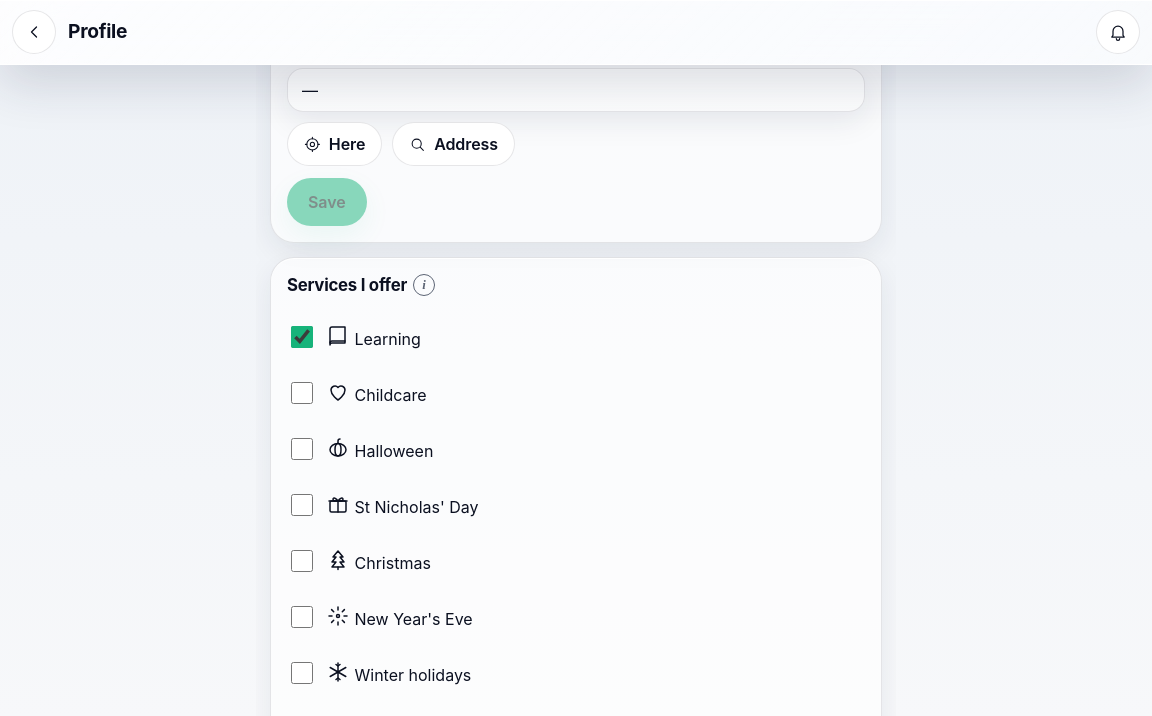
Test: S2 My place and Services I offer (FR-140, FR-093, FR-123, FR-142) › saves My place with a name, and turns offers on and off
The width and height of the screenshot is (1152, 716).
(page scrolled)
Expected: the element with test id "offers" shows "Services I offer", [287,275,407,295]
Expected: the checkbox with test id "offer-learning" is checked, [291,326,313,348]
Click the checkbox with test id "offer-childcare". click: {"x": 302, "y": 393}
box: [291,382,313,404]
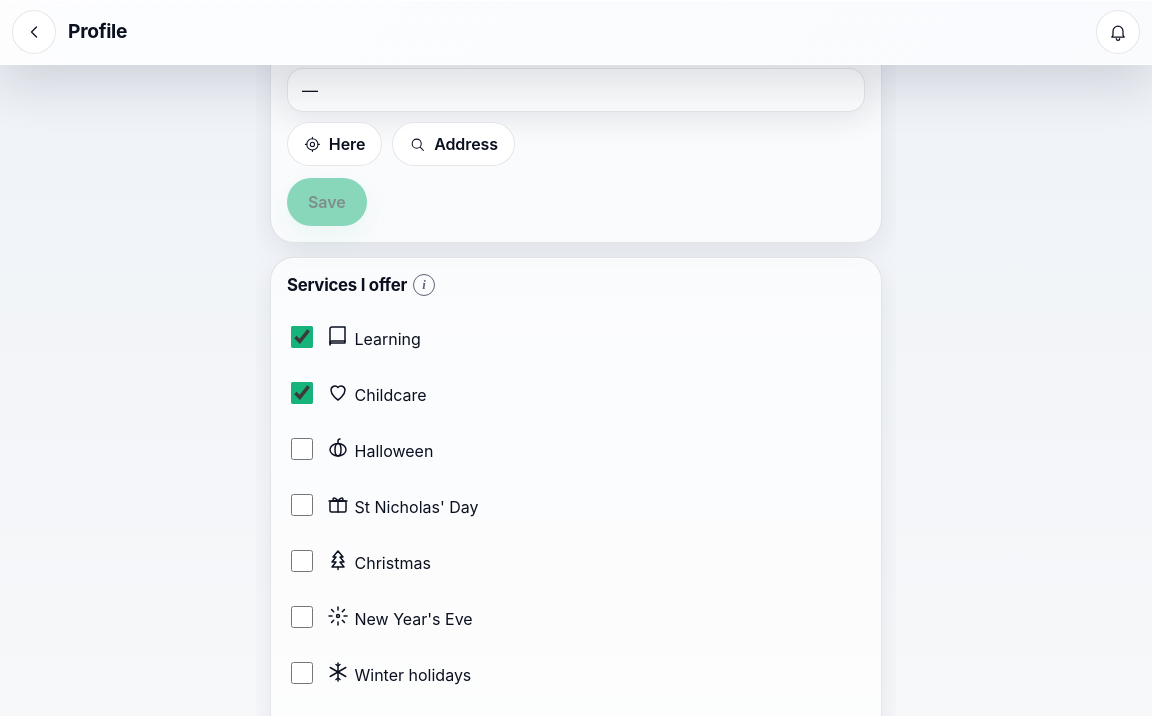
Expected: the text with test id "my-place-input-value" reads "—", [302,80,318,100]
Now the checkbox with test id "offer-childcare" is checked, box [291,382,313,404]
Click the button with test id "my-place-input-here". click: {"x": 335, "y": 144}
box: [287,122,382,166]
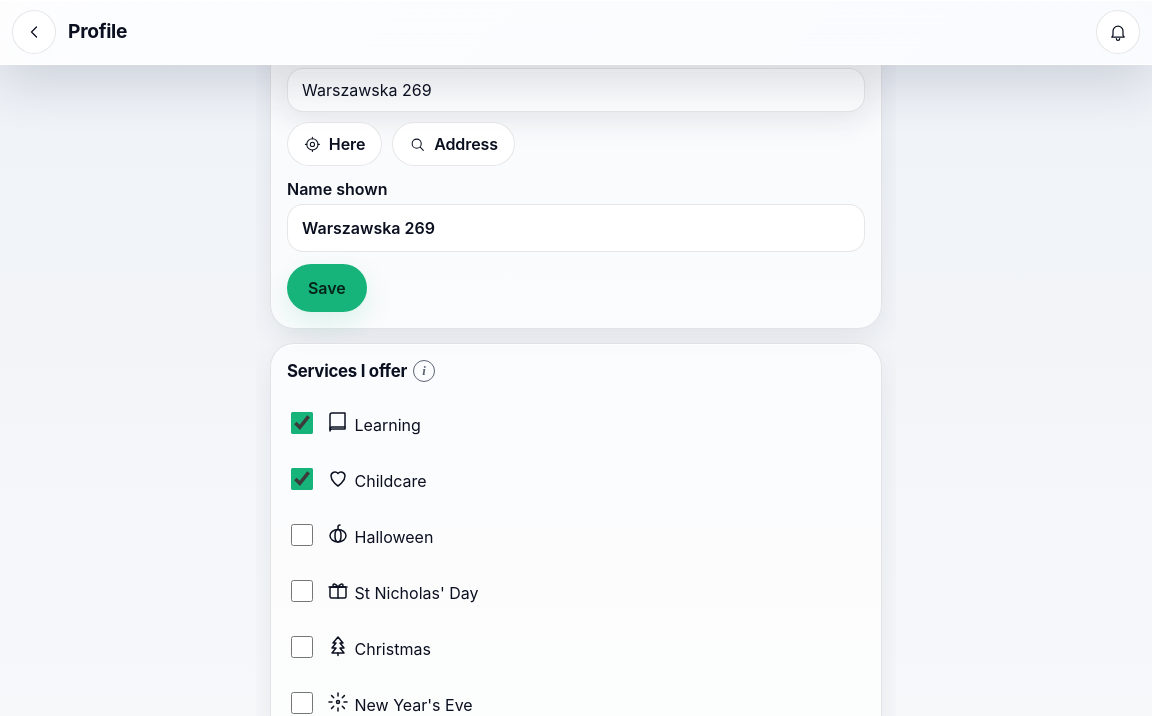
Replace the text in the field with test id "my-place-name" with "Home". click: {"x": 576, "y": 228}
box: [287,204,865,252]
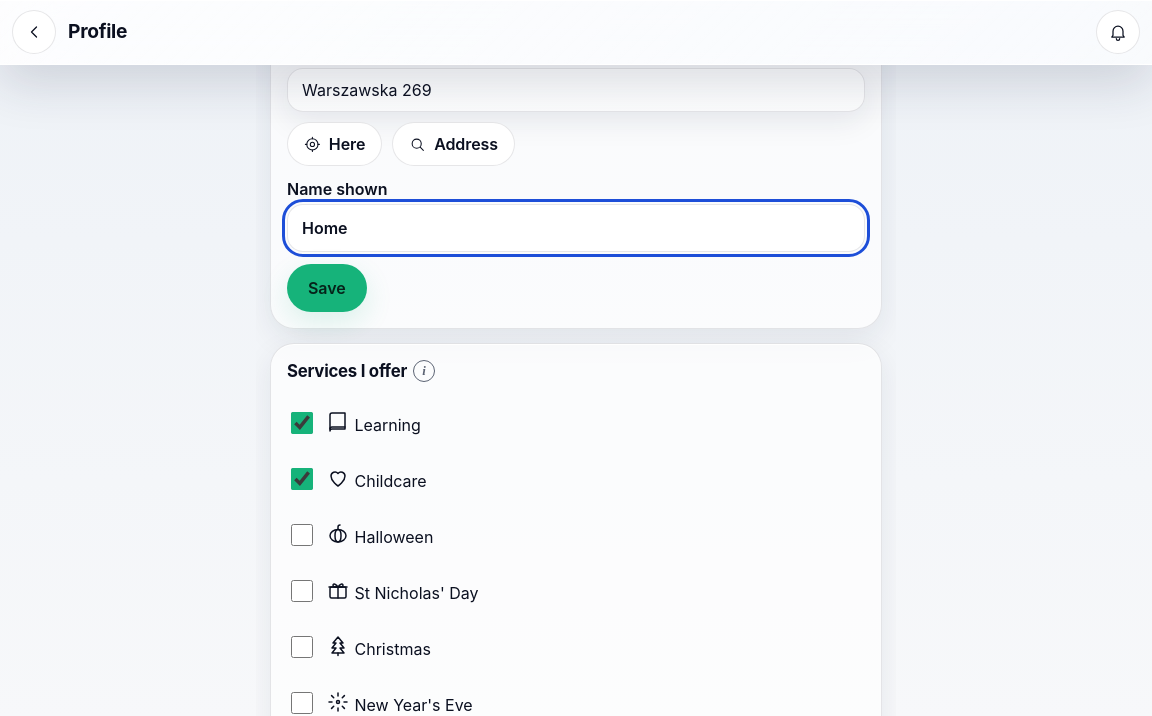
Click the button with test id "my-place-save". click: {"x": 327, "y": 288}
box: [287,264,367,312]
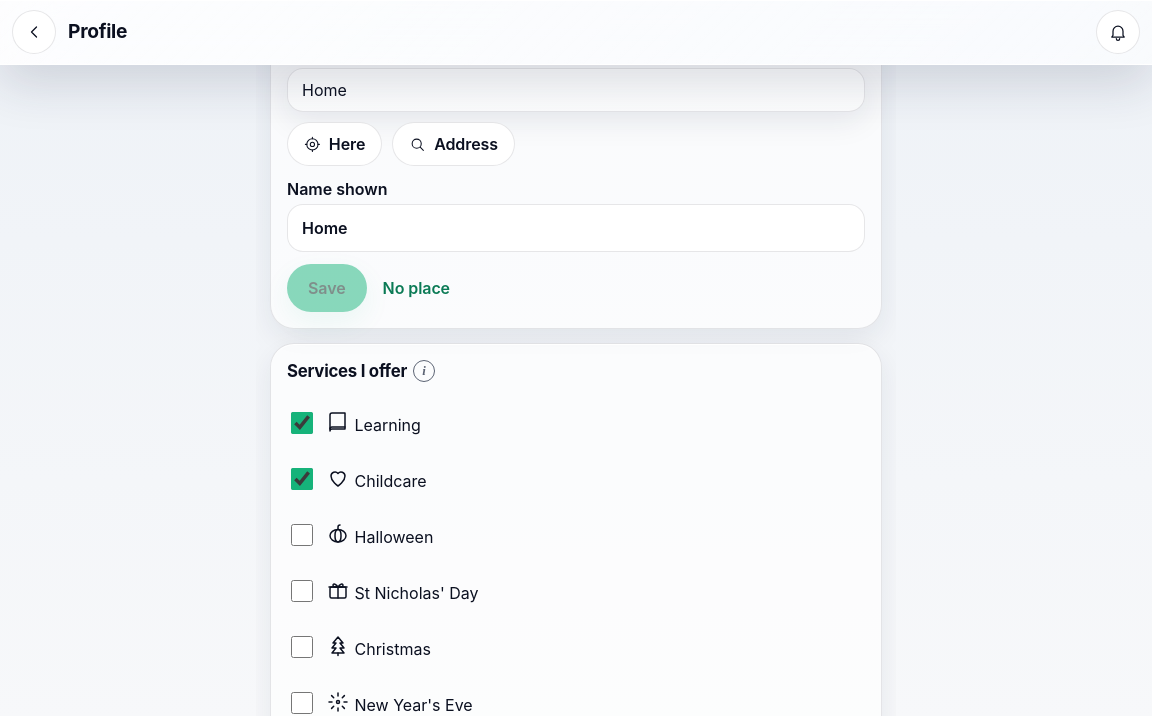
Now the text "Home" is shown, box [287,68,865,112]
Now the button with test id "my-place-clear" is shown, box [377,266,456,310]
